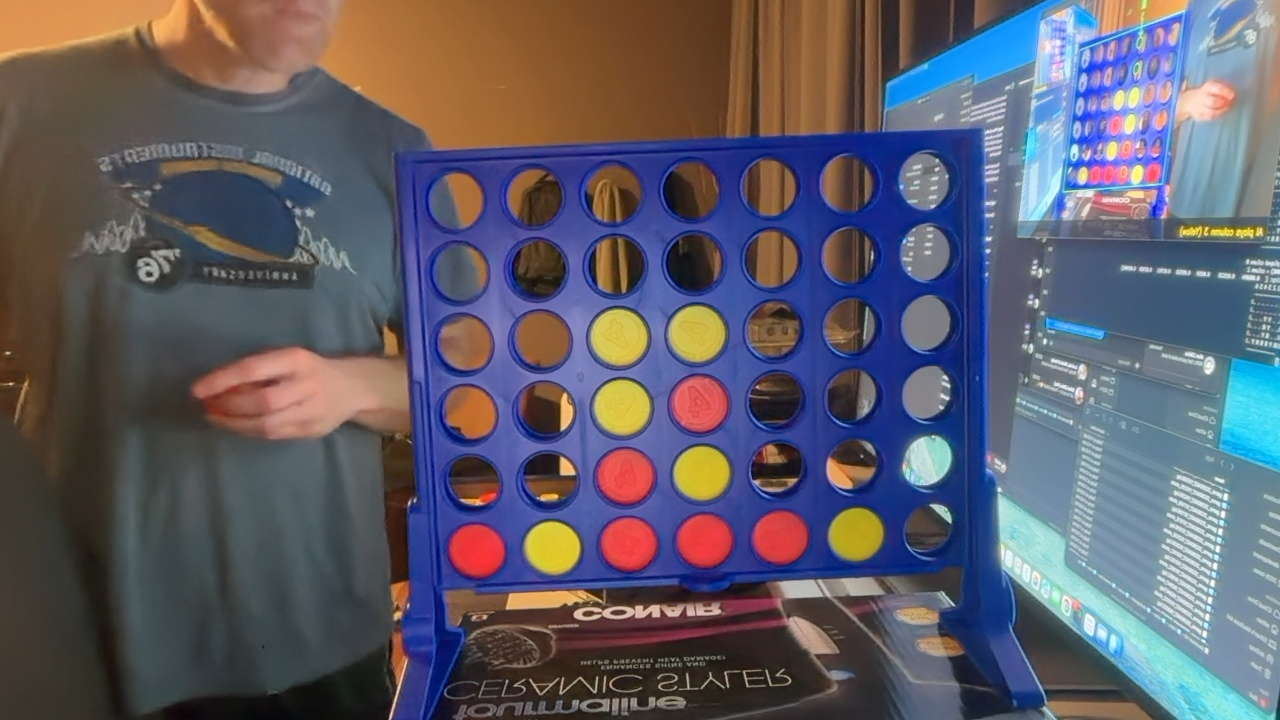red piece: (670, 375, 729, 433), (596, 448, 655, 505), (676, 513, 733, 569), (752, 510, 809, 565), (600, 517, 657, 572), (448, 524, 505, 579)
yellow piece: (588, 308, 649, 368), (667, 304, 727, 363), (592, 378, 652, 437), (673, 445, 731, 501), (523, 521, 581, 575), (828, 507, 884, 562)
